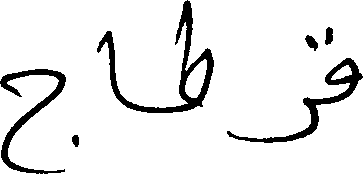ا: (104, 28, 122, 104)
ج: (0, 67, 87, 172)
ر: (234, 96, 318, 143)
ط: (177, 0, 214, 112)
ق: (304, 24, 361, 95)
